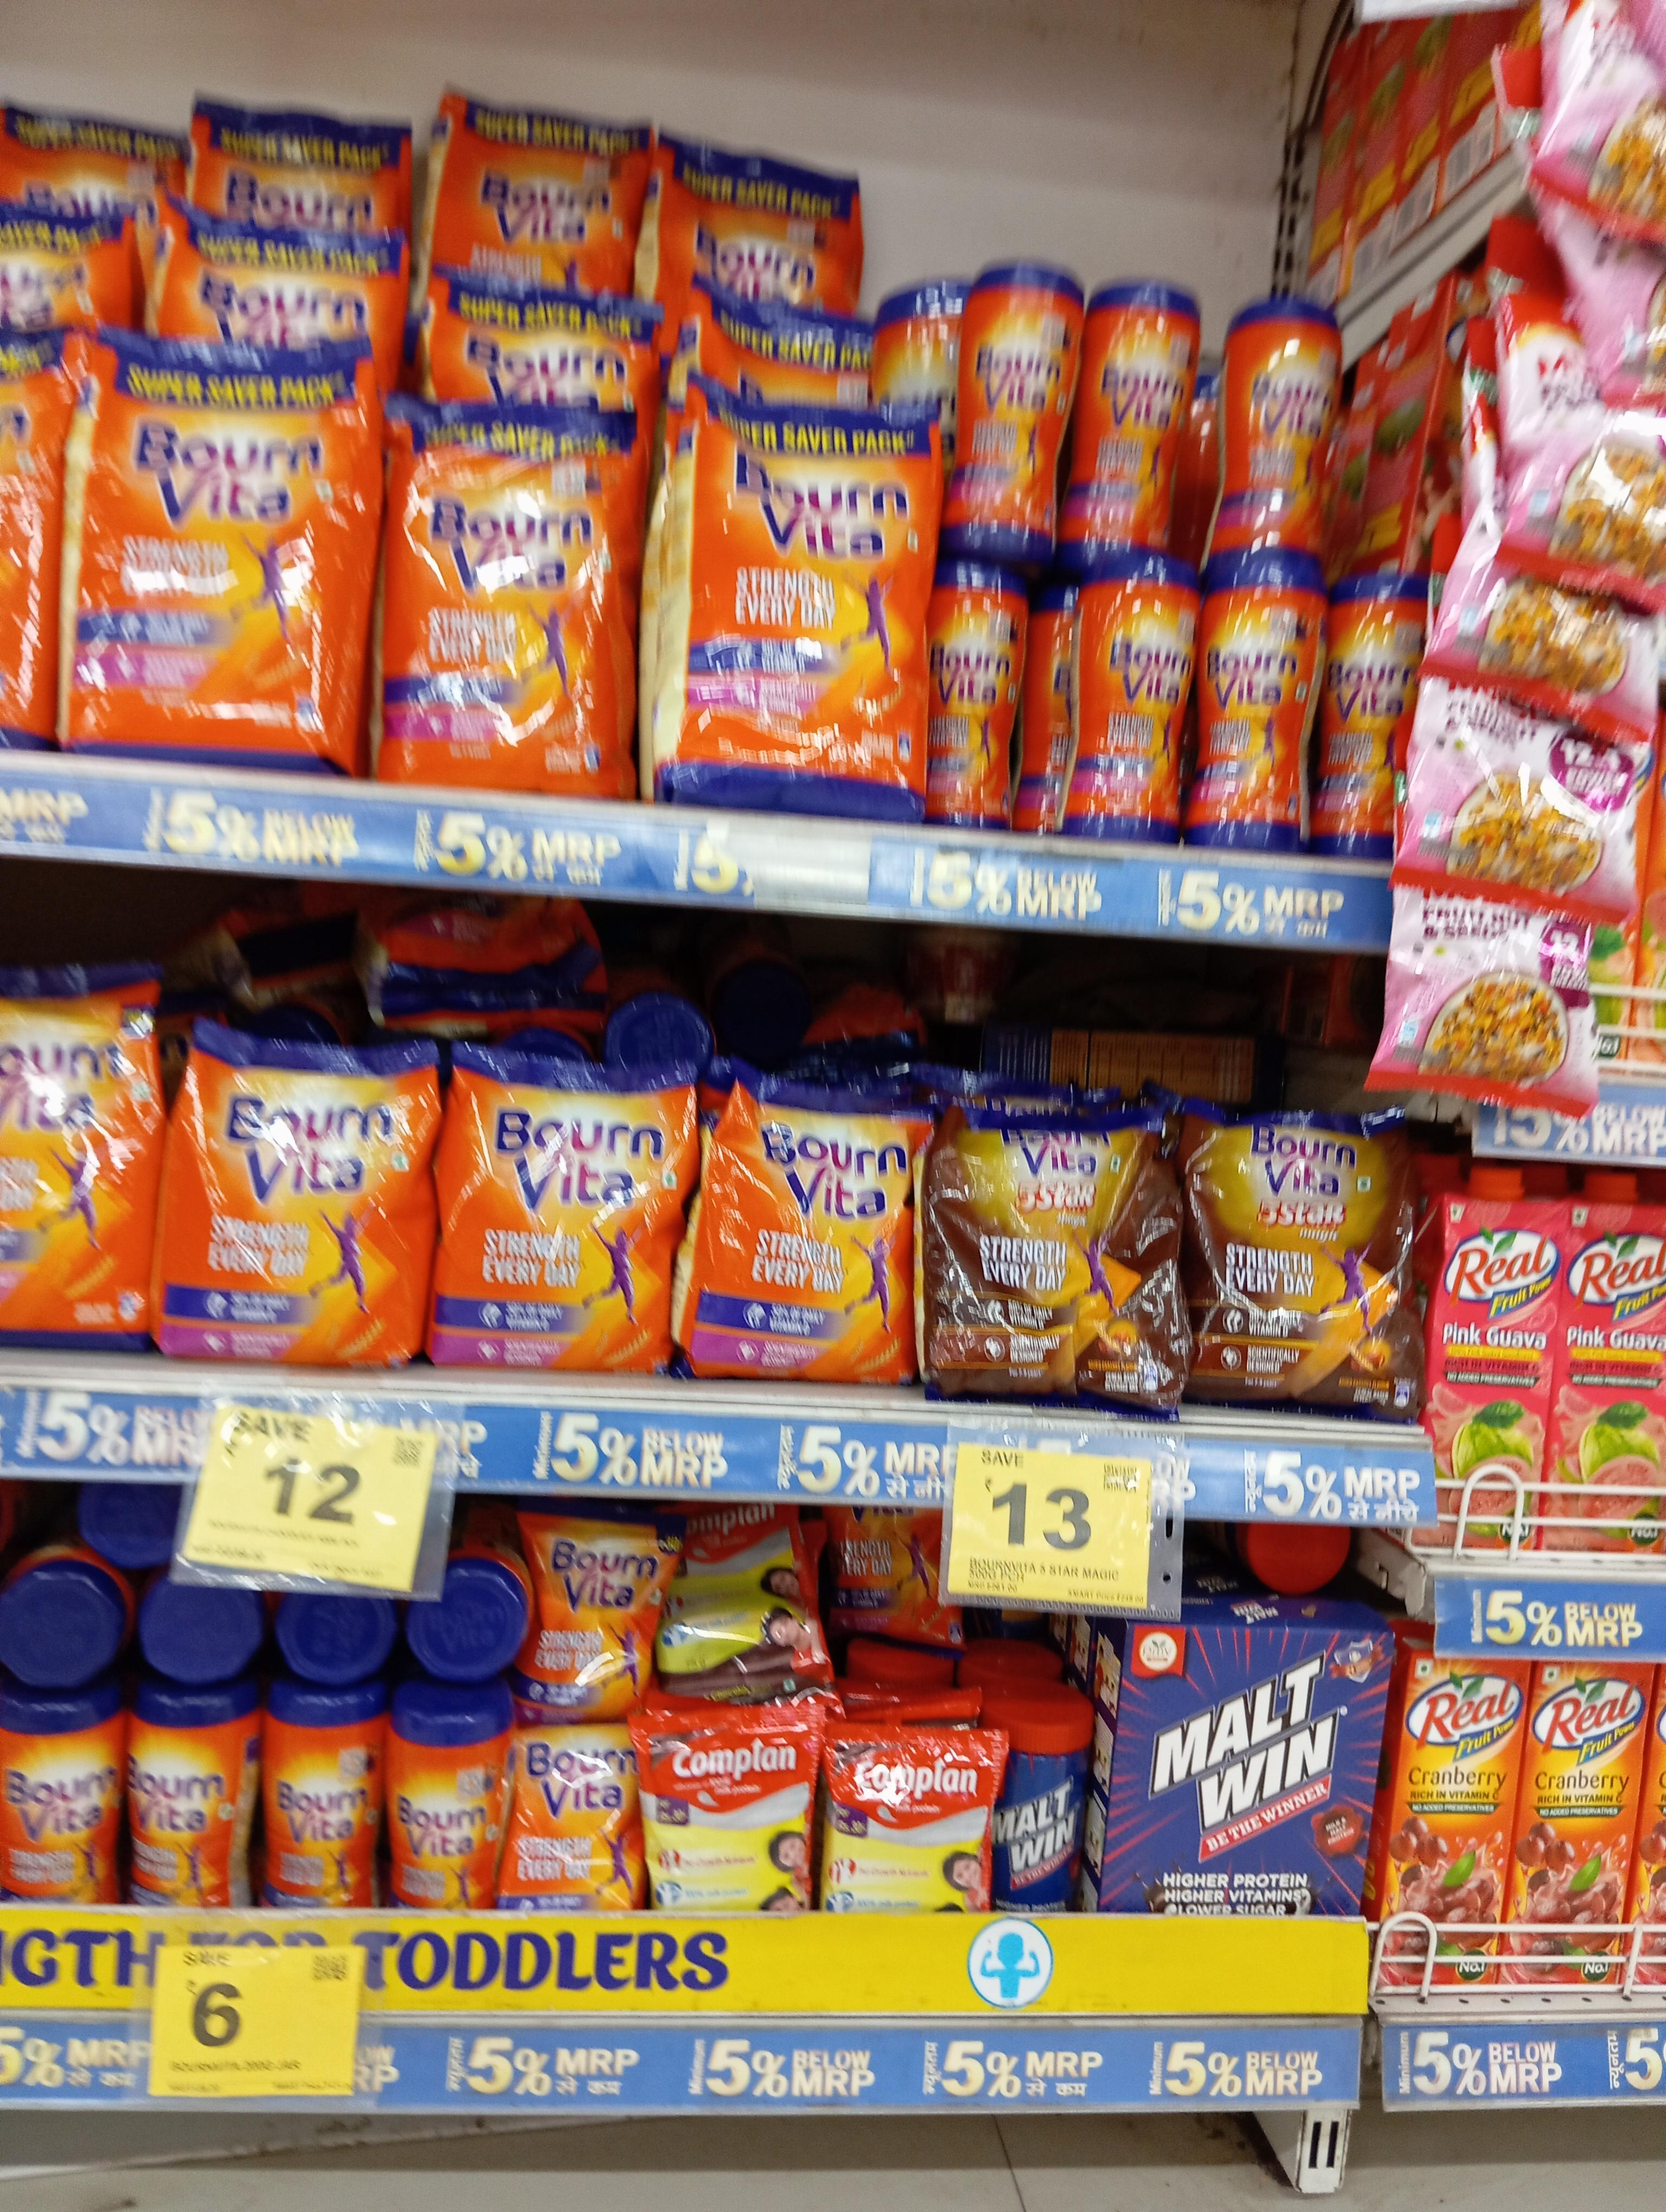BOURN_VITA_200_G_JAR: (2, 1696, 119, 1916), (268, 1694, 380, 1911), (124, 1694, 235, 1908), (392, 1698, 499, 1908)
BOURN_VITA_500_G_JAR: (950, 257, 1073, 551), (1080, 558, 1199, 852), (1200, 546, 1309, 855), (1081, 280, 1193, 546), (1229, 301, 1339, 542), (1330, 568, 1416, 869), (931, 556, 1024, 832)
BOURN_VITA_500_G_POUCH: (170, 1028, 418, 1362), (450, 1051, 663, 1373), (702, 1096, 919, 1383)
BOURN_VITA_75_G_POUCH: (529, 1520, 665, 1712), (507, 1728, 635, 1909)
BOURN_VITA_FIVE_STAR_MAGIC_500_G_POUCH: (1188, 1103, 1433, 1409), (938, 1112, 1171, 1409)
